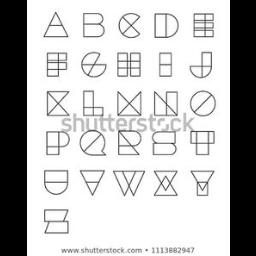b: (76, 10, 108, 40)
